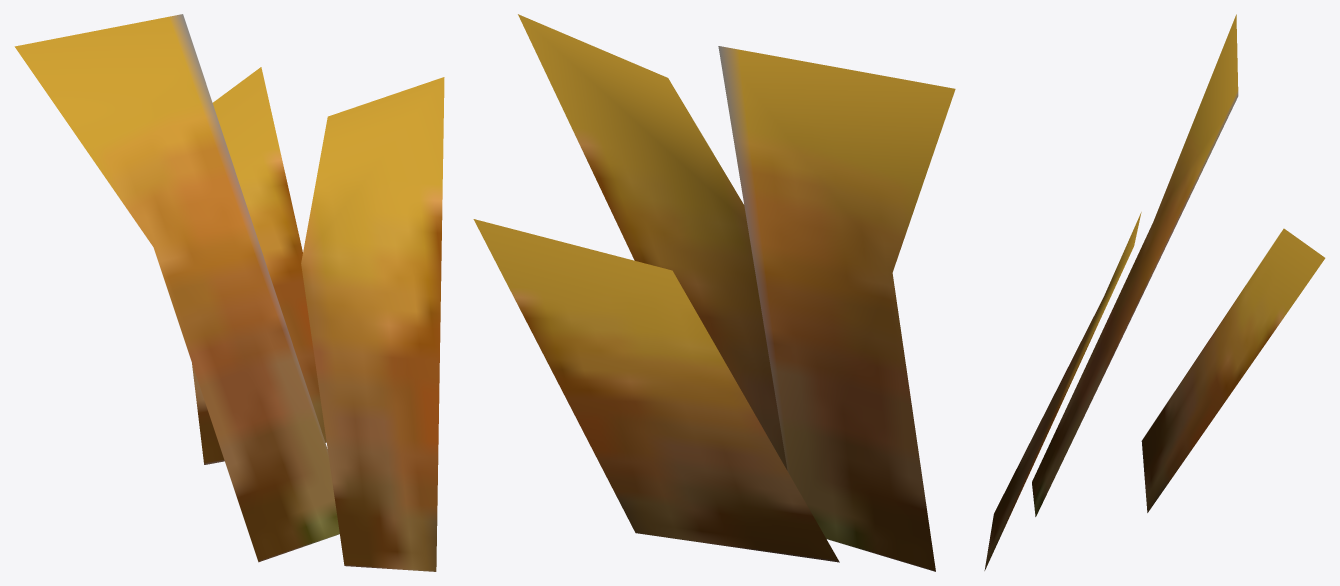
The model's file is fg_grassD.dae.
3 views of the same model, side by side, from view 1: azimuth 30°, elevation 25°; view 2: azimuth 150°, elevation 25°; view 3: azimuth 270°, elevation 25° (orthographic). The views are drawn at different scales.
Visible parts, largest first — view 1: fg_grassD; view 2: fg_grassD; view 3: fg_grassD.
Part boxes in pixels (x1,y1,x2,y2): fg_grassD: (14,14,444,571); fg_grassD: (473,14,955,571); fg_grassD: (984,14,1325,570).
Bounding box in the file's own units: 14.73 × 18.52 × 13.13.
Materials: 1 (1 with a texture image).
